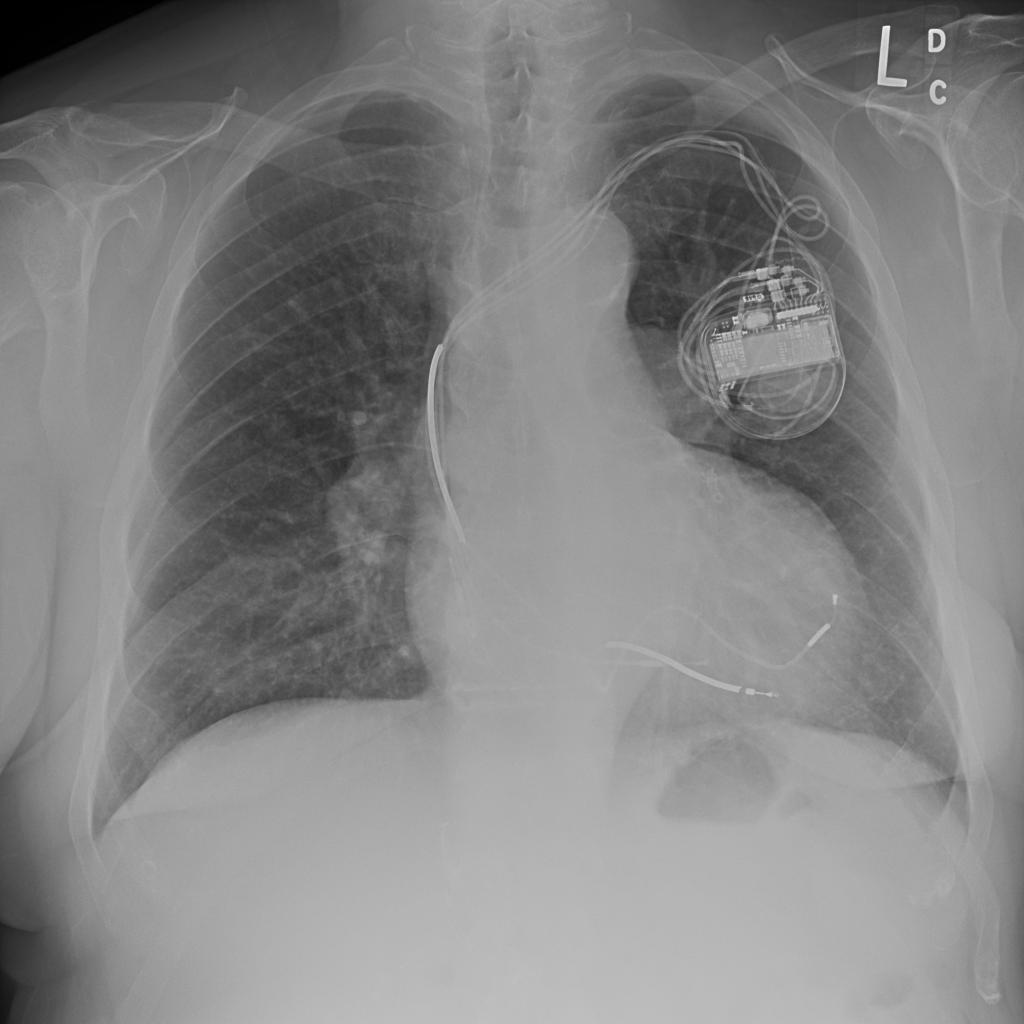Nodule: (118, 175, 149, 230), (57, 324, 82, 378)
